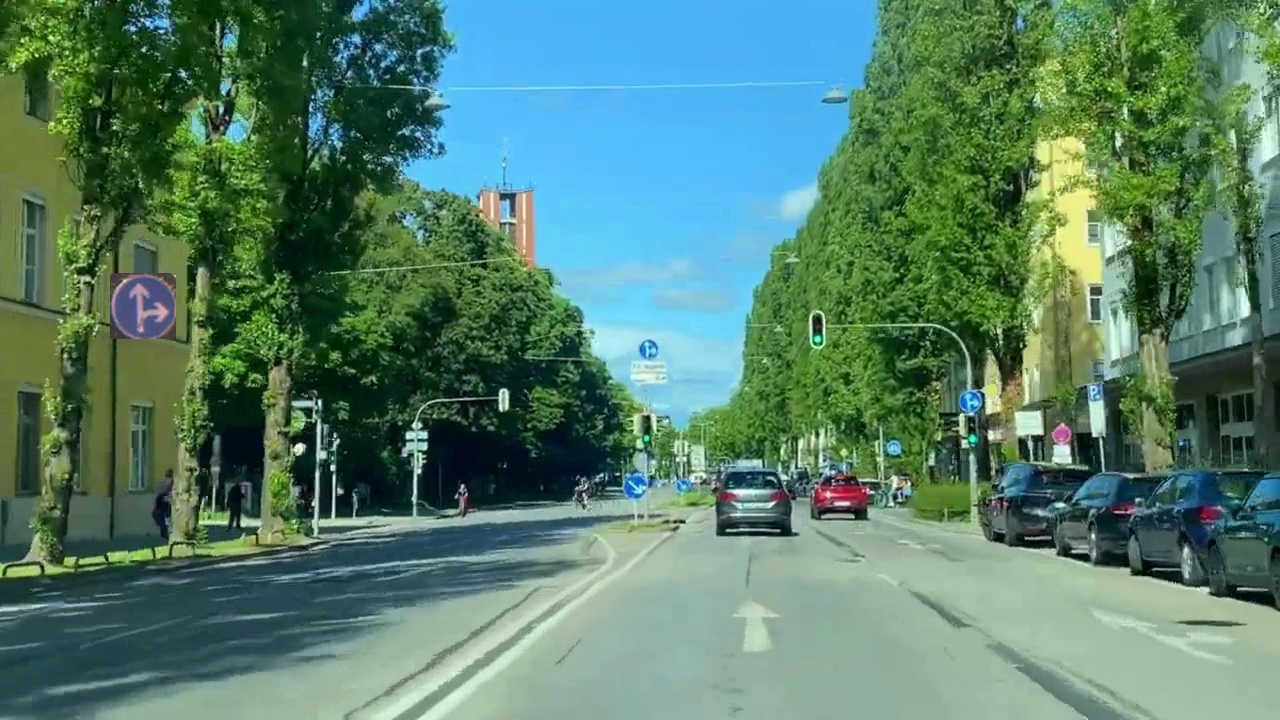Straight/right: (110, 273, 176, 339)
